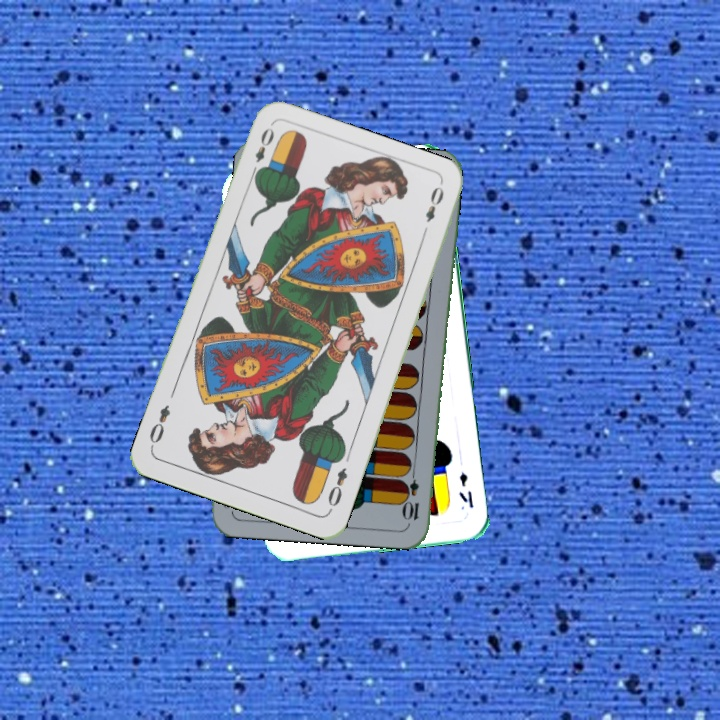E10: (402, 464, 422, 523)
EK: (455, 468, 476, 511)
EO: (247, 123, 277, 180), (323, 463, 351, 509)
